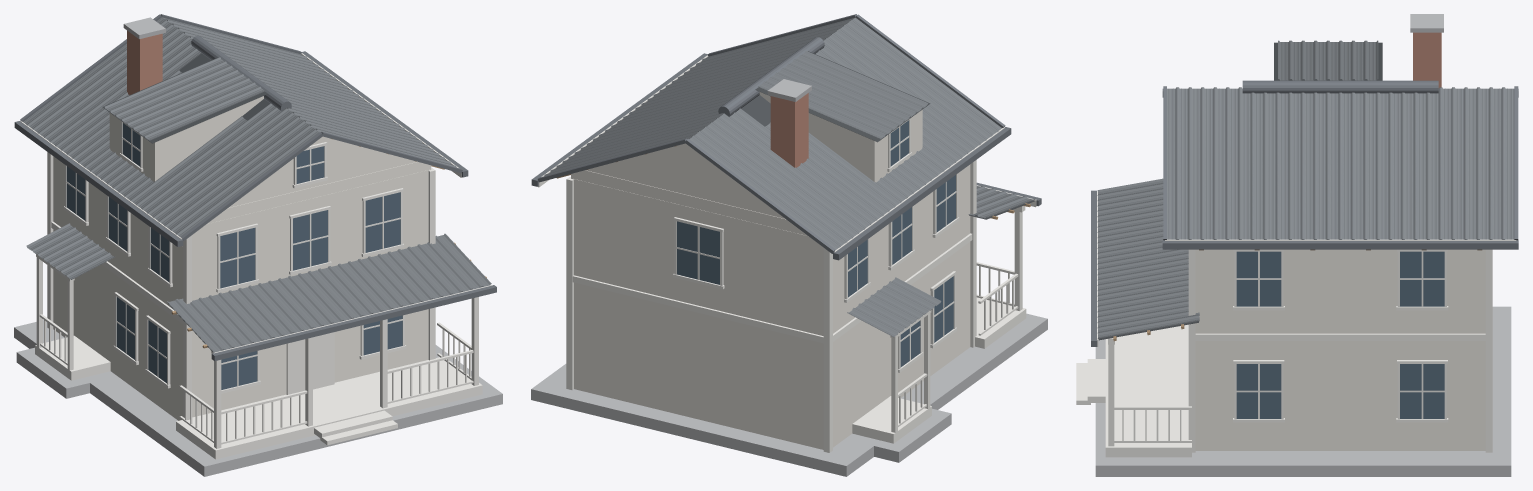
File: Pico_Rib_1220_Compact_Porch_House.glb
3 renders of one model, left to right at view 1: azimuth 30°, elevation 25°; view 2: azimuth 150°, elevation 25°; view 3: azimuth 270°, elevation 25°, orthographic. The views are drawn at different scales.
Visible parts, largest first — view 1: Main_Walls, Porch_Deck_Front, Foundation_Main, RoofSheet_13, RoofSheet_14, Gable_Wall_Front, RoofSheet_08, RoofSheet_09, RoofSheet_16, RoofSheet_15, Gutter_Porch, Gable_Band_Front (+58 smaller); view 2: Main_Walls, Foundation_Main, Gable_Wall_Back, RoofSheet_08, RoofSheet_14, RoofSheet_09, RoofSheet_16, RoofSheet_13, RoofSheet_15, SecondFloor_BandTrim, Gable_Band_Back, RoofSheet_10 (+41 smaller); view 3: Main_Walls, Foundation_Main, Porch_Deck_Front, RoofSheet_02, RoofSheet_04, RoofSheet_03, RoofSheet_05, RoofSheet_06, RoofSheet_01, RoofSheet_07, Gutter_Right, Ridge_Cap (+25 smaller).
Boxes of the visible parts, box(x1,y1,x2,y2) form: Main_Walls: box(53, 156, 431, 420); Porch_Deck_Front: box(176, 357, 482, 459); Foundation_Main: box(14, 320, 502, 476); RoofSheet_13: box(136, 103, 298, 221); RoofSheet_14: box(159, 117, 319, 237); Gable_Wall_Front: box(228, 136, 416, 207); RoofSheet_08: box(21, 17, 183, 137); RoofSheet_09: box(44, 32, 201, 154); RoofSheet_16: box(127, 74, 265, 140); RoofSheet_15: box(104, 57, 242, 123); Gutter_Porch: box(211, 285, 496, 361); Gable_Band_Front: box(207, 161, 431, 223); Main_Walls: box(571, 164, 970, 449); Foundation_Main: box(531, 313, 1047, 476); Gable_Wall_Back: box(585, 132, 785, 218); RoofSheet_08: box(689, 122, 858, 251); RoofSheet_14: box(833, 17, 1003, 144); RoofSheet_09: box(711, 108, 882, 233); RoofSheet_16: box(782, 51, 928, 121); RoofSheet_13: box(815, 34, 979, 162); RoofSheet_15: box(758, 69, 903, 139); SecondFloor_BandTrim: box(572, 233, 972, 343); Gable_Band_Back: box(571, 170, 807, 235); RoofSheet_10: box(765, 122, 906, 215); Main_Walls: box(1195, 249, 1485, 450); Foundation_Main: box(1095, 306, 1511, 476); Porch_Deck_Front: box(1105, 324, 1191, 457); RoofSheet_02: box(1215, 87, 1265, 239); RoofSheet_04: box(1315, 92, 1365, 239); RoofSheet_03: box(1265, 92, 1315, 239); RoofSheet_05: box(1365, 92, 1415, 239); RoofSheet_06: box(1416, 87, 1465, 239); RoofSheet_01: box(1165, 87, 1215, 239); RoofSheet_07: box(1466, 87, 1515, 239); Gutter_Right: box(1162, 240, 1518, 249); Ridge_Cap: box(1242, 80, 1438, 93).
Size of the model in its own units: 8.2 by 7.71 by 8.94.
